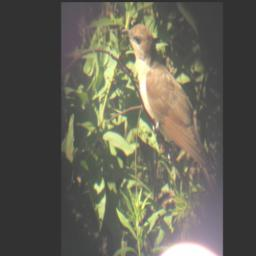Cuckoo: (121, 23, 220, 199)
